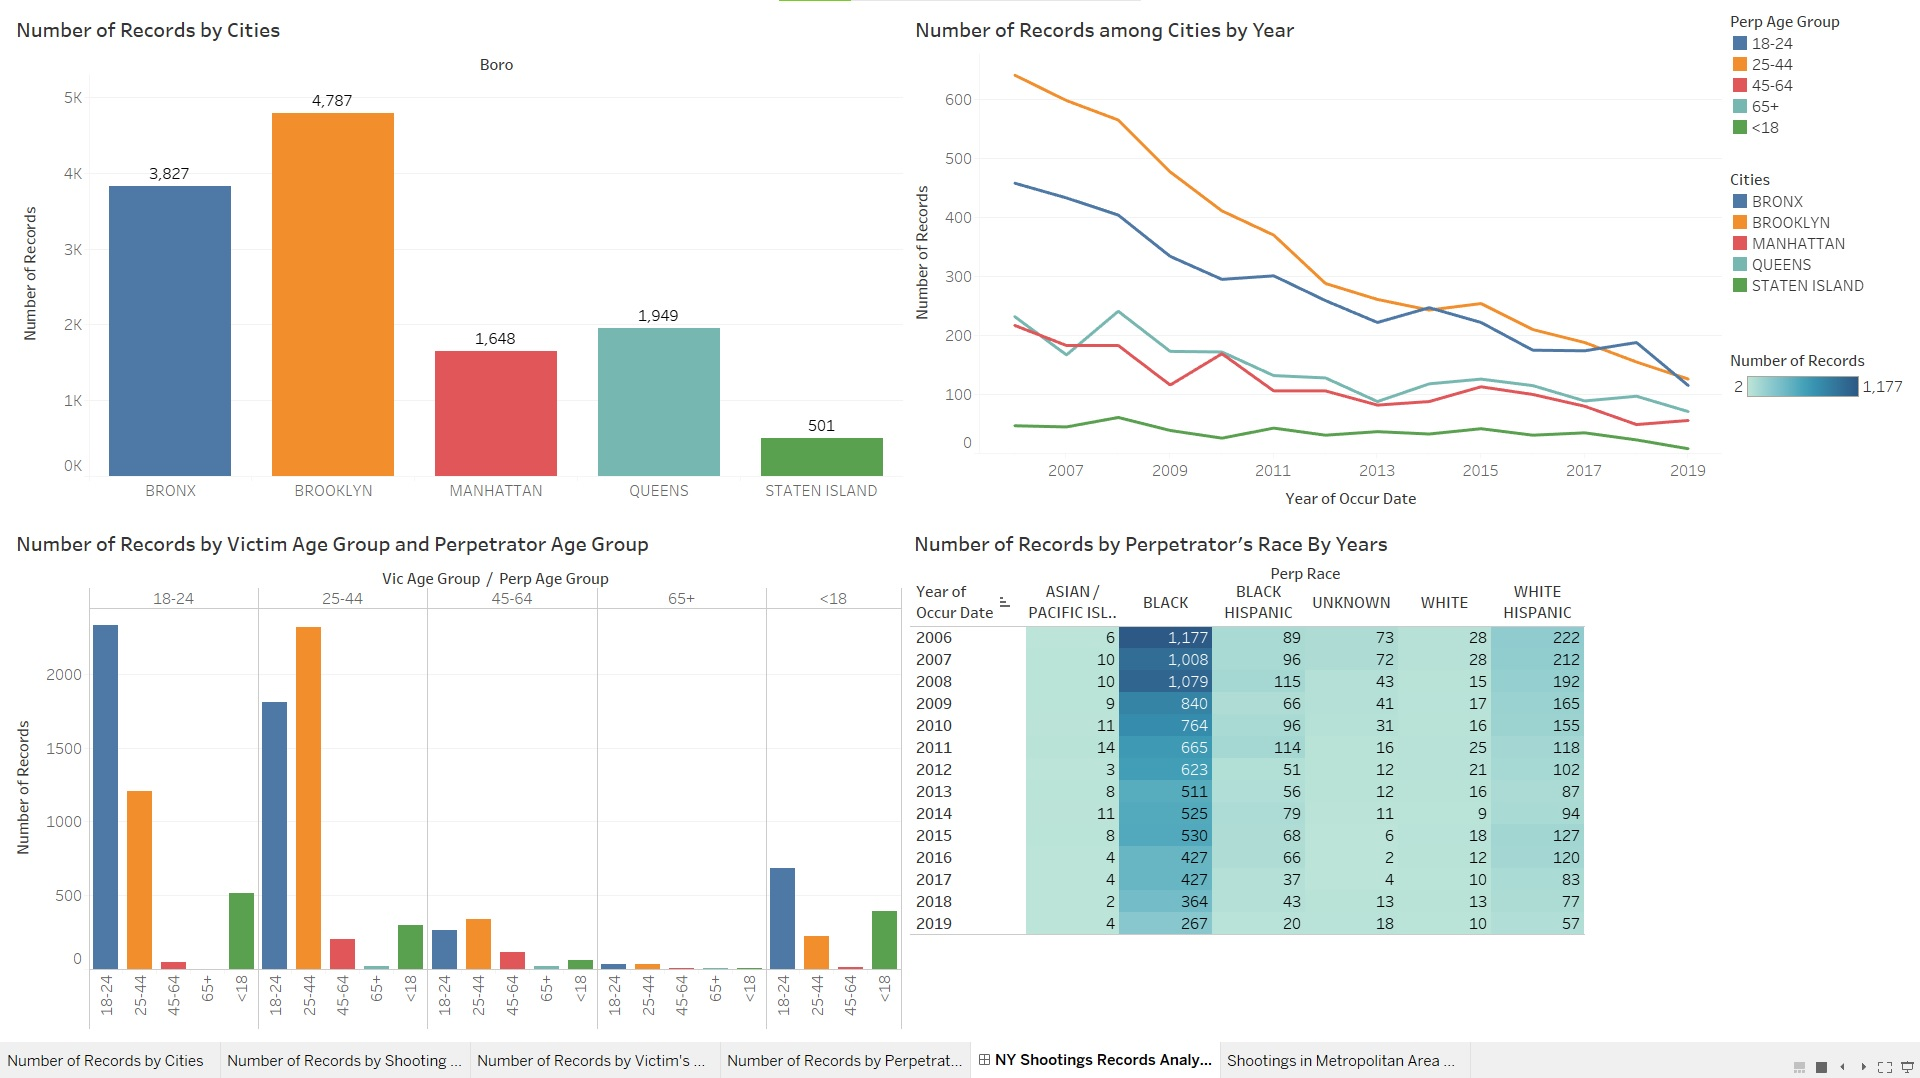

Layout of this report page (visuals, bound fields, positions):
{"tool":"tableau","page":{"name":"NY Shootings Records Analysis","canvas":[1000,1000],"units":"permille","ordinal":0},"visuals":[{"type":"worksheet","title":"Number of Records by Cities","mark":"Automatic","rows":["Number of Records"],"cols":["BORO"],"box":[4.8,9.3,467.5,490.7]},{"type":"worksheet","title":"Number of Records by Shooting Year among Cities","mark":"Automatic","rows":["Number of Records"],"cols":["OCCUR_DATE"],"box":[472.3,9.3,426.3,490.7]},{"type":"legend","title":"Number of Records by Victim's Age Group in Relation to Perpetrator's Age Group","param":"[federated.100y0ck08p0l6b1f582lr14ilyyu].[none:PERP_AGE_GROUP:nk]","box":[898.6,9.3,96.6,151]},{"type":"legend","title":"Number of Records by Cities","param":"[federated.100y0ck08p0l6b1f582lr14ilyyu].[none:BORO:nk]","box":[898.6,160.3,96.6,173.1]},{"type":"legend","title":"Number of Records by Perpetrator's Race Over Years","param":"[federated.100y0ck08p0l6b1f582lr14ilyyu].[sum:Number of Records:qk]","box":[898.6,333.3,96.6,657.4]},{"type":"worksheet","title":"Number of Records by Victim's Age Group in Relation to Perpetrator's Age Group","mark":"Automatic","rows":["Number of Records"],"cols":["VIC_AGE_GROUP","PERP_AGE_GROUP"],"box":[4.8,500,467.2,490.7]},{"type":"worksheet","title":"Number of Records by Perpetrator's Race Over Years","mark":"Square","rows":["OCCUR_DATE"],"cols":["PERP_RACE"],"box":[472,500,426.6,490.7]}]}

Visuals, with their boxes on the dashboard's canvas, which has no fixed pixel size, in thousandths of its width and height (x1, y1, x2, y2). These are canvas units, not pixel positions in the 1920x1078 screenshot, which may show the page scaled, cropped or inside an application window:
"Number of Records by Cities" worksheet: (5,9,472,500)
"Number of Records by Shooting Year among Cities" worksheet: (472,9,899,500)
"Number of Records by Victim's Age Group in Relation to Perpetrator's Age Group" legend: (899,9,995,160)
"Number of Records by Cities" legend: (899,160,995,333)
"Number of Records by Perpetrator's Race Over Years" legend: (899,333,995,991)
"Number of Records by Victim's Age Group in Relation to Perpetrator's Age Group" worksheet: (5,500,472,991)
"Number of Records by Perpetrator's Race Over Years" worksheet (Square marks): (472,500,899,991)
